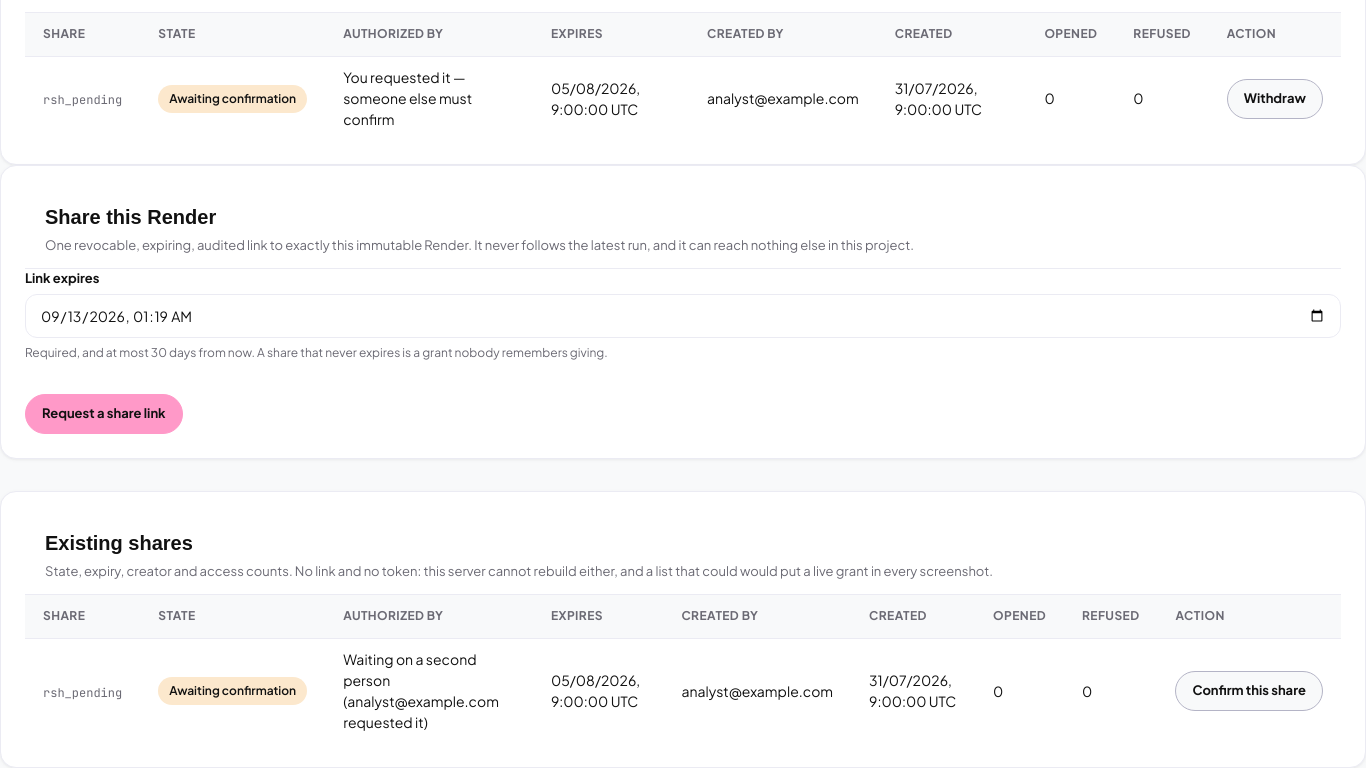
Test: the Render Workbench Sharing tab › offers the confirm gesture only to a second identity, and shows the link then
The image size is (1366, 768).
(page scrolled)
Expected: the 1st text "rsh_pending" is shown, [43, 91, 122, 109]
Expected: the text "You requested it — someone else must confirm" is shown, [343, 68, 472, 128]
Click the button with test id "render-share-confirm-rsh_pending" at (1249, 691), box [1176, 671, 1323, 711]
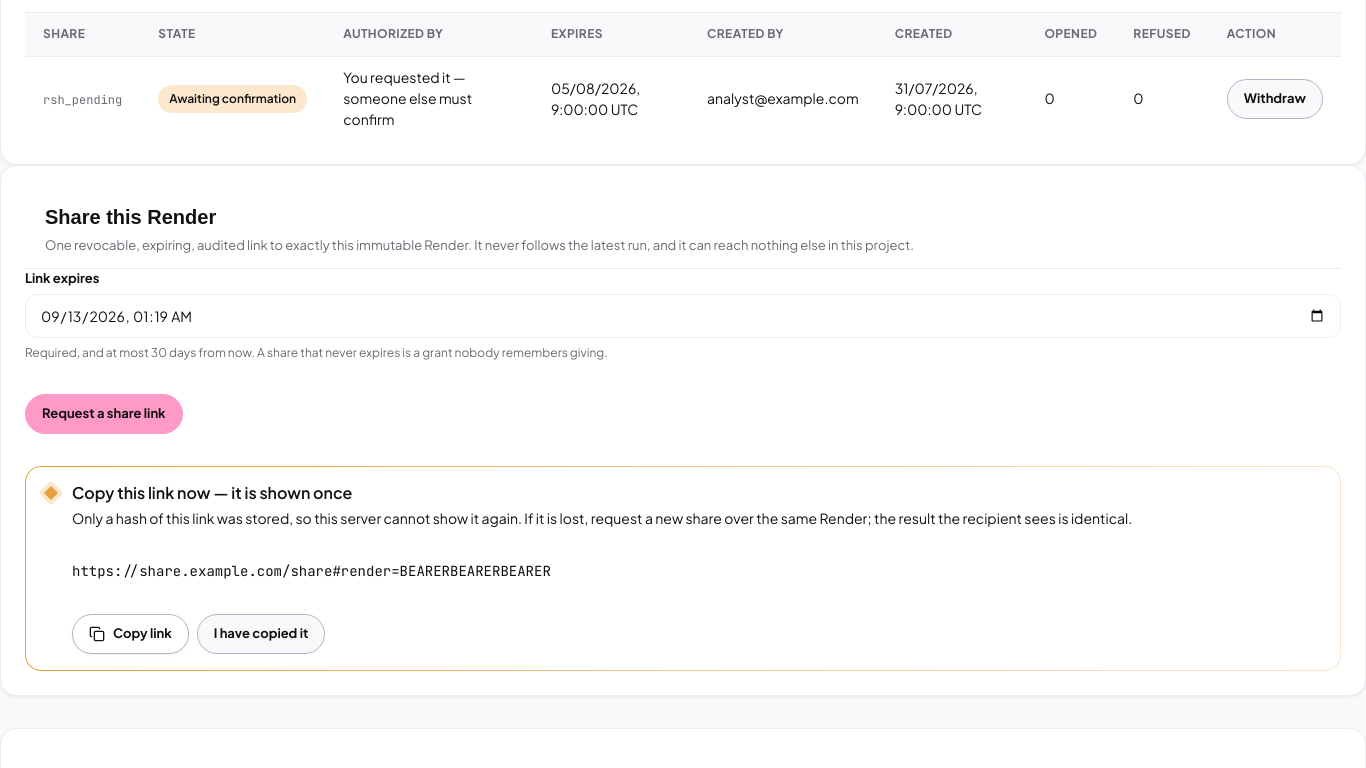
Result: the text with test id "render-share-delivery-url" reads "https://share.example.com/share#render=BEARERBEARERBEARER" at [72, 562, 551, 580]
